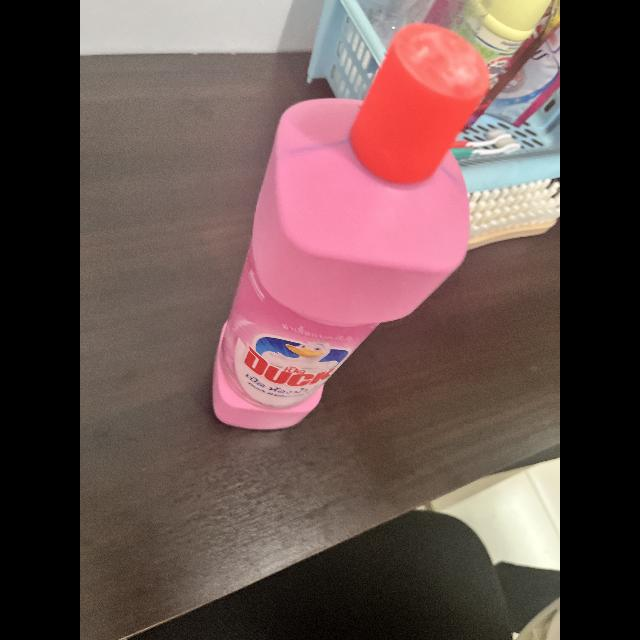chemical_plastic_bottle: (206, 19, 494, 431)
